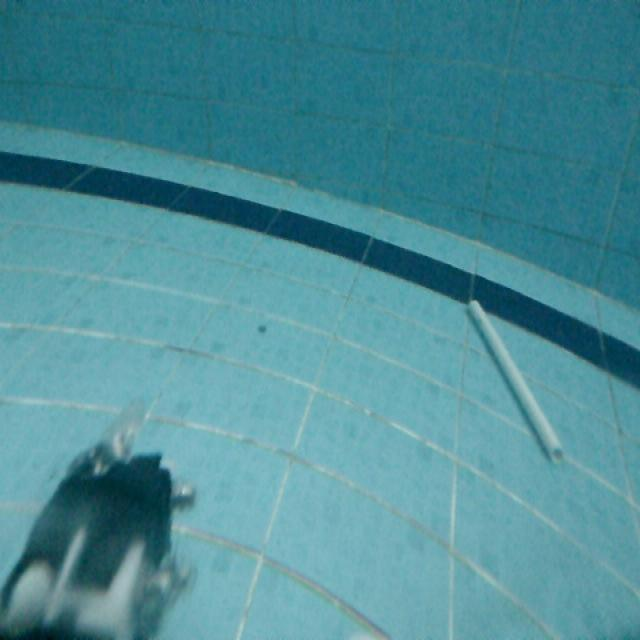Cube: (468, 298, 569, 461)
